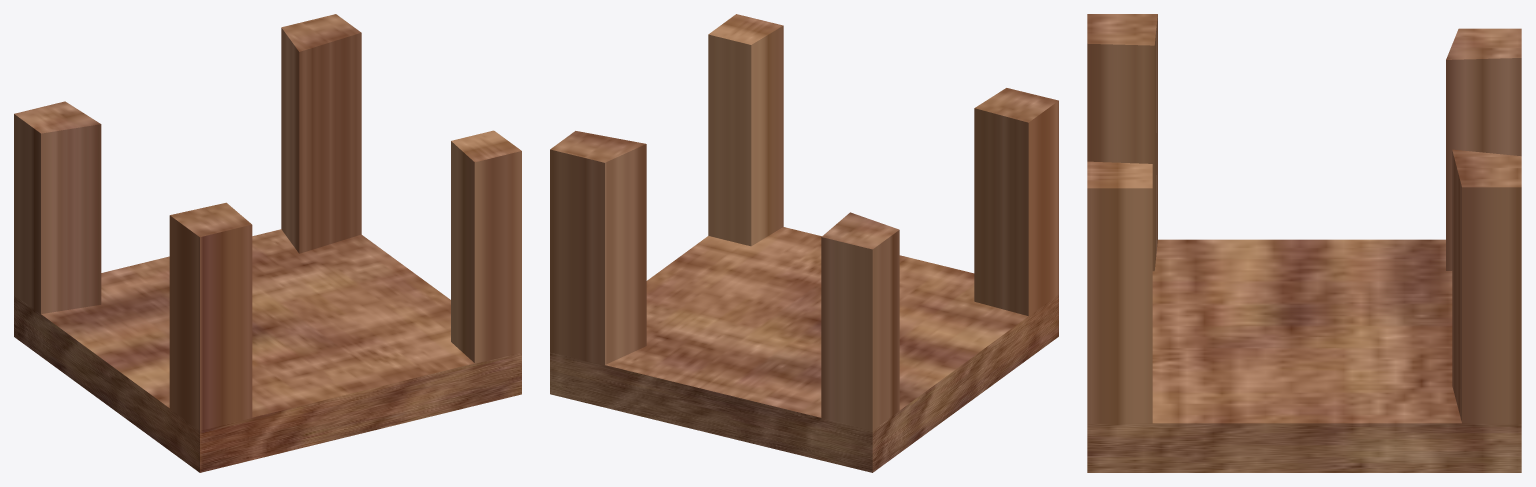
File: silla.fbx
3 renders of one model, left to right at view 1: azimuth 30°, elevation 25°; view 2: azimuth 150°, elevation 25°; view 3: azimuth 270°, elevation 25°, orthographic. The views are drawn at different scales.
Visible parts, largest first — view 1: Cube; view 2: Cube; view 3: Cube.
Boxes of the visible parts, left/top/right/bottom form: Cube: left=14, top=14, right=521, bottom=472; Cube: left=550, top=14, right=1058, bottom=472; Cube: left=1087, top=14, right=1521, bottom=472.
Bounding box in the file's own units: 0.2 × 0.145 × 0.2.
